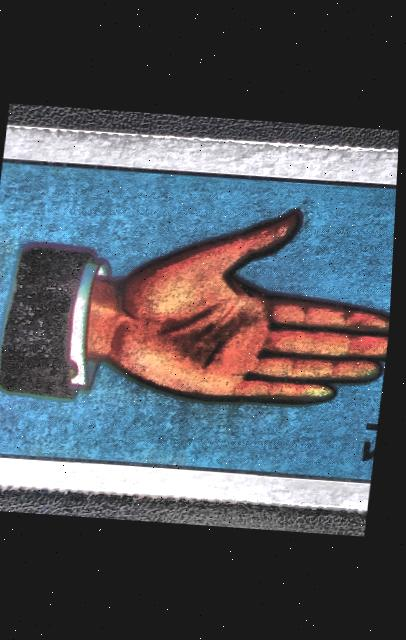La Mano: (0, 131, 401, 499)
